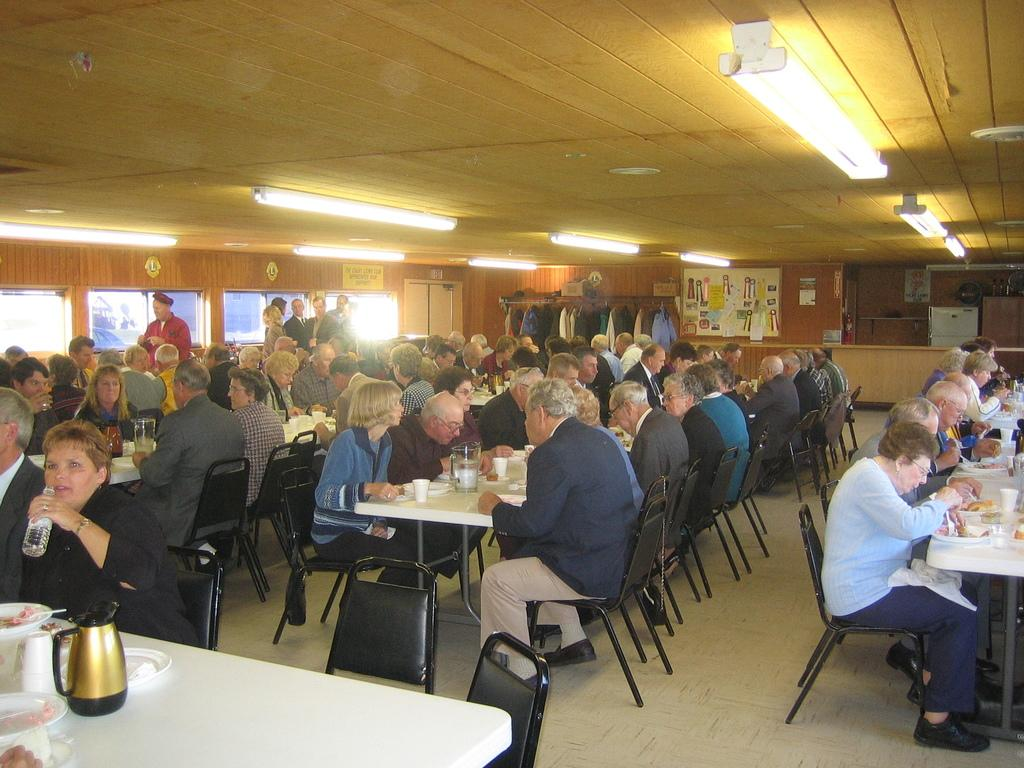Chair: (785, 503, 930, 724), (522, 509, 667, 707), (272, 478, 377, 644), (324, 554, 439, 694), (465, 631, 550, 767), (680, 444, 742, 598), (714, 443, 770, 573), (166, 544, 223, 650)
